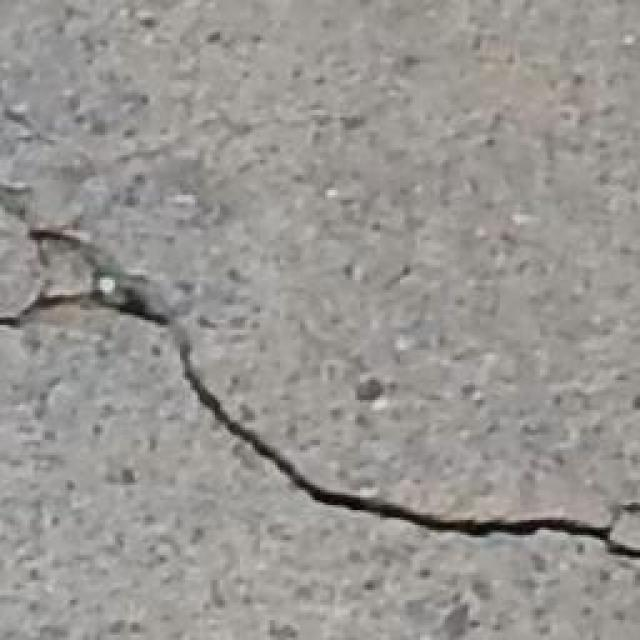concrete-crack: (3, 183, 637, 556)
